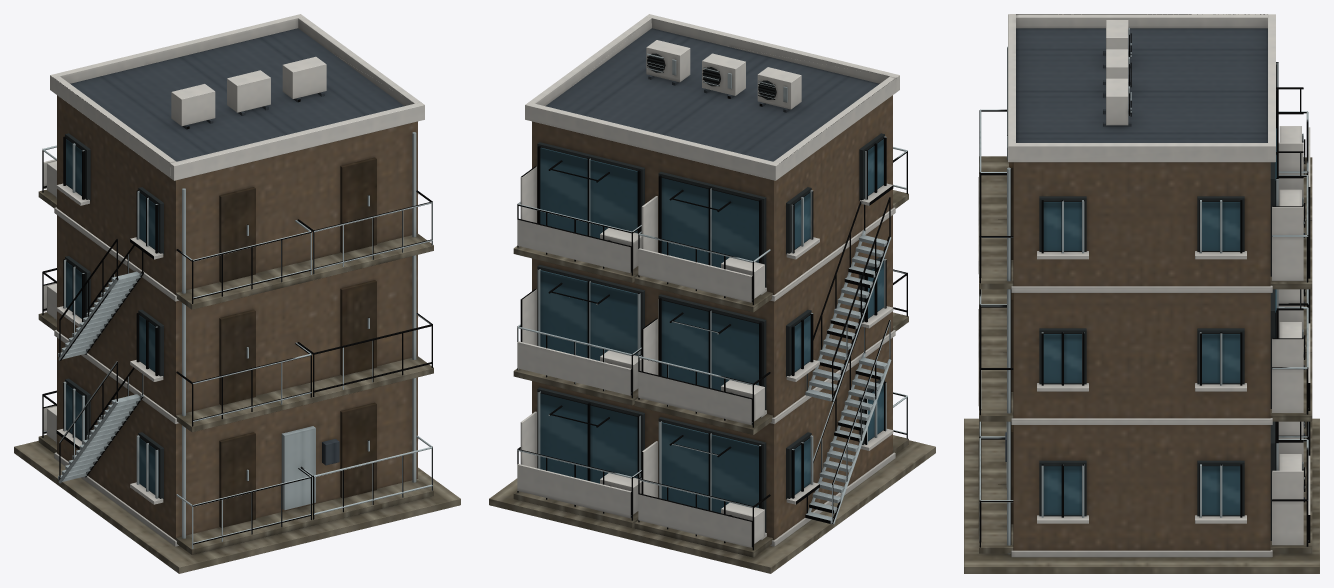
Rendered from residential_016.obj.
3 renders of one model, left to right at view 1: azimuth 30°, elevation 25°; view 2: azimuth 150°, elevation 25°; view 3: azimuth 270°, elevation 25°, orthographic. The views are drawn at different scales.
Visible parts, largest first — view 1: residential_016; view 2: residential_016; view 3: residential_016.
Boxes of the visible parts, bbox=[...] form: residential_016: bbox=[14, 14, 460, 573]; residential_016: bbox=[489, 14, 935, 573]; residential_016: bbox=[964, 14, 1319, 573].
Size of the model in its own units: 7.34 by 9.86 by 7.2.
Materials: 1 (1 with a texture image).
